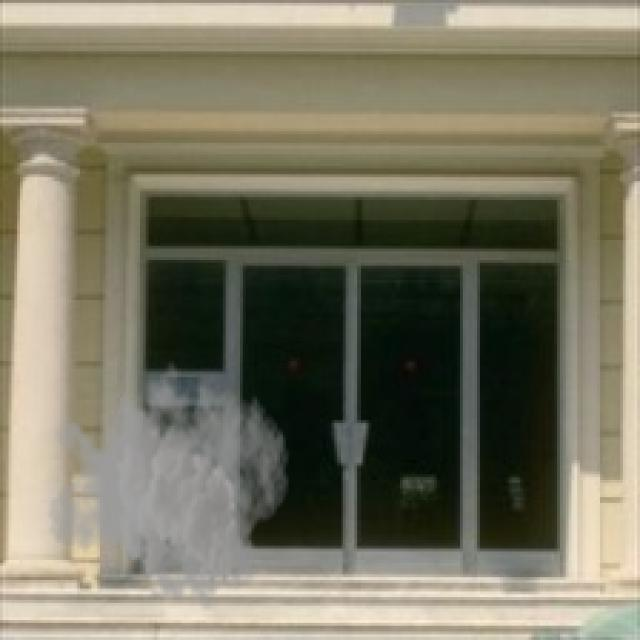smoke: (46, 352, 291, 614)
